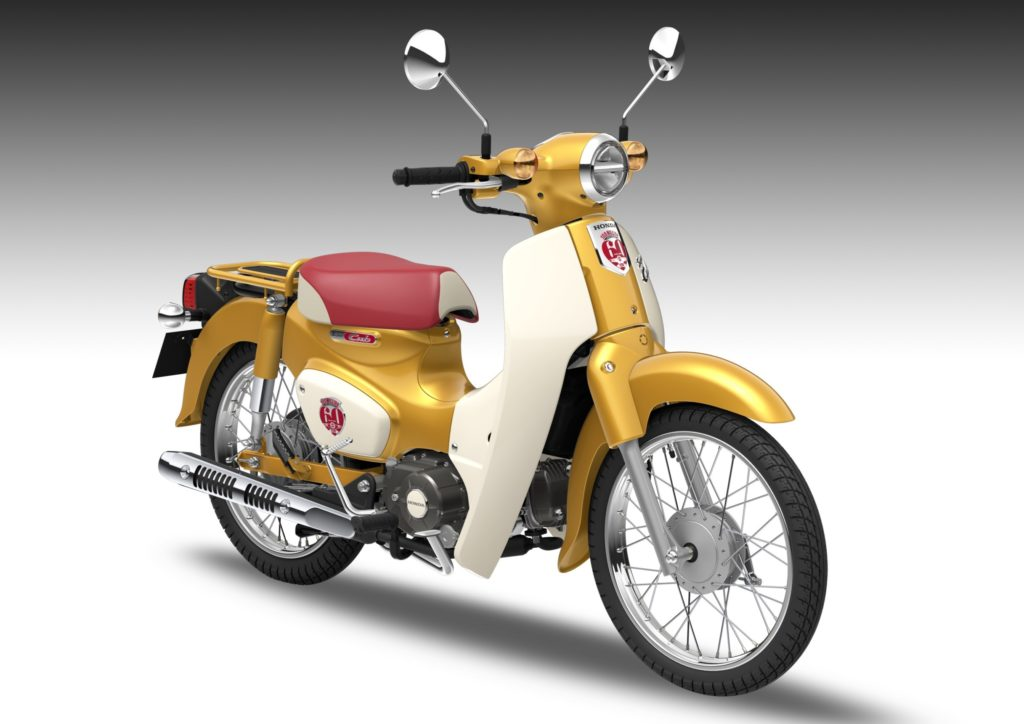motorcycle: (171, 131, 822, 699)
